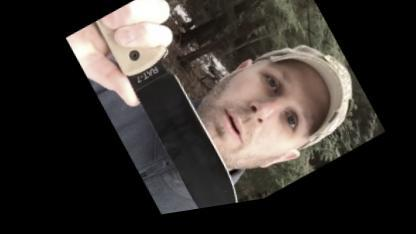knife: (80, 0, 269, 223)
